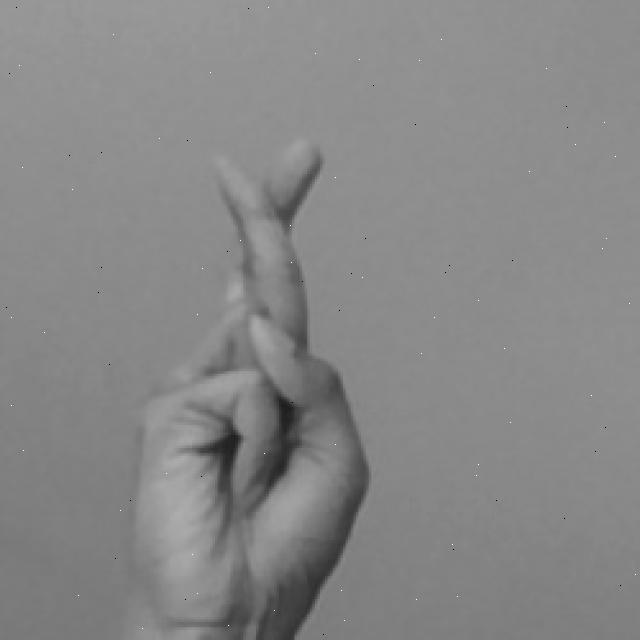R: (120, 137, 376, 640)
